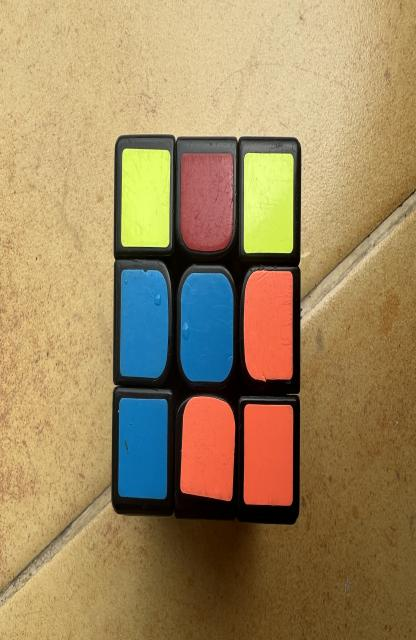Blue: (180, 273, 234, 382), (120, 270, 168, 378), (119, 398, 167, 500)
Orange: (180, 397, 236, 502), (244, 270, 292, 382), (244, 403, 293, 507)
Red: (180, 153, 233, 252)
Yellow: (121, 148, 171, 247), (244, 153, 293, 253)
